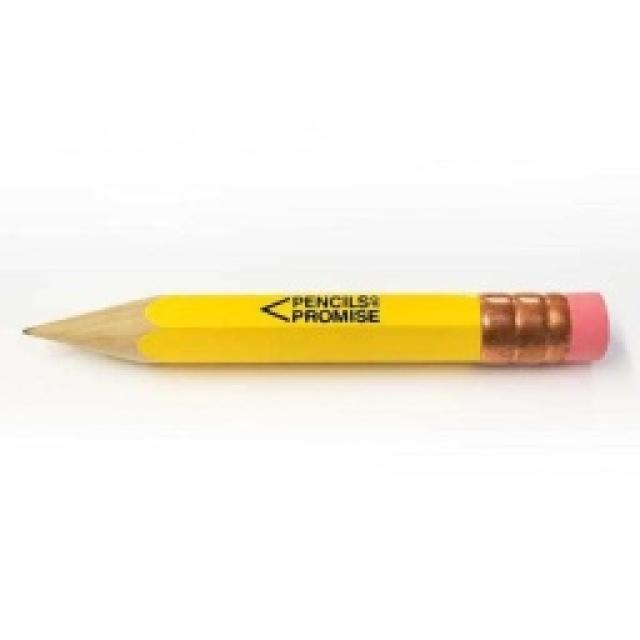pencil: (20, 285, 612, 367)
